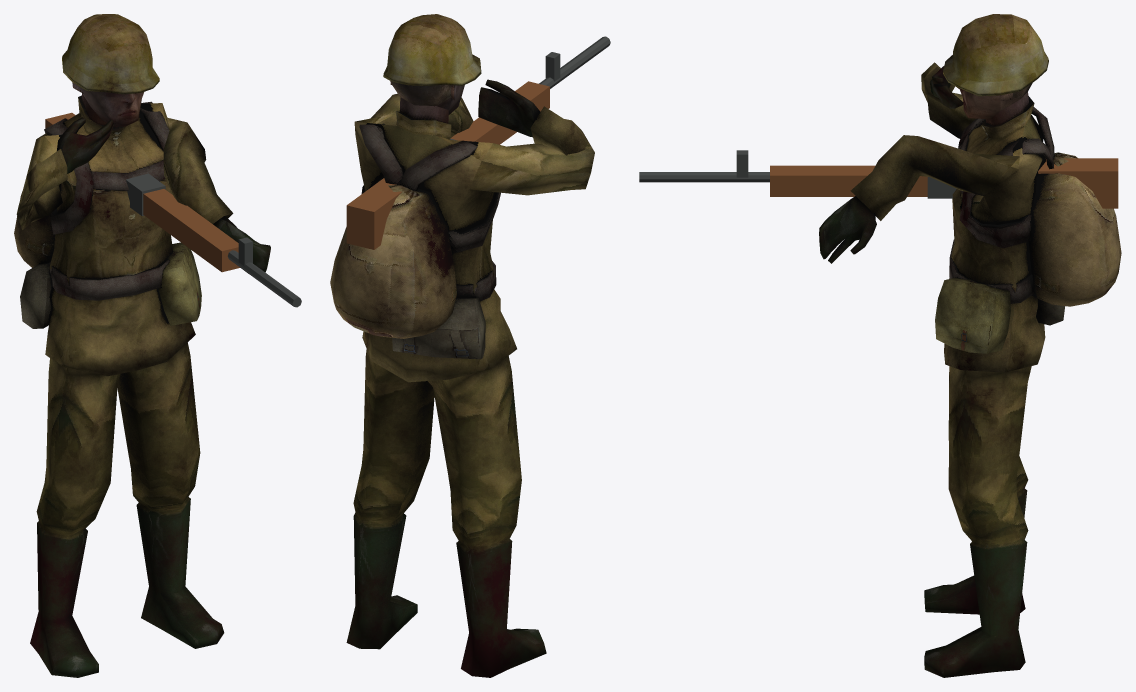
Rendered from soviet_ww2_soldier_aim_00.glb.
3 views of the same model, side by side, from view 1: azimuth 30°, elevation 25°; view 2: azimuth 150°, elevation 25°; view 3: azimuth 270°, elevation 25° (orthographic). The views are drawn at different scales.
Visible parts, largest first — view 1: final_Static, SovietRifle_Generated; view 2: final_Static, SovietRifle_Generated; view 3: final_Static, SovietRifle_Generated.
Part boxes in pixels (x1,y1,x2,y2): final_Static: (14,14,270,677); SovietRifle_Generated: (45,112,301,307); final_Static: (330,14,594,677); SovietRifle_Generated: (346,36,610,249); final_Static: (819,14,1121,677); SovietRifle_Generated: (639,150,1118,208).
Bounding box in the file's own units: 0.6306 × 1.75 × 1.24.
3 materials, 1 textured.
